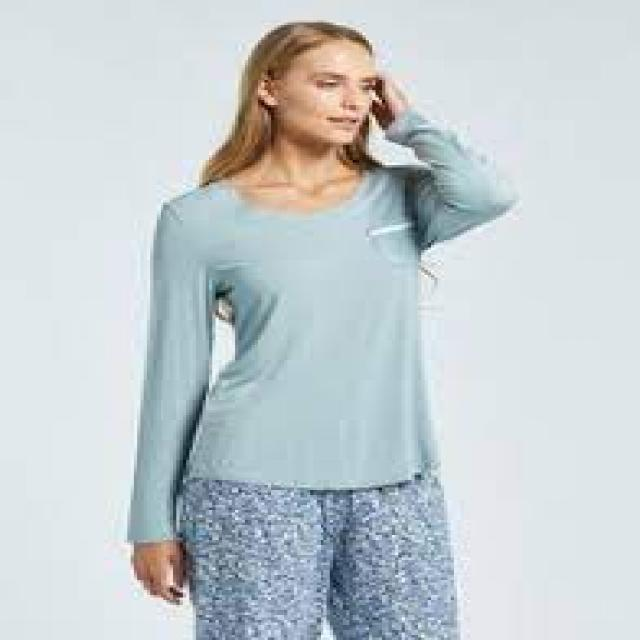plain: (128, 141, 520, 492)
